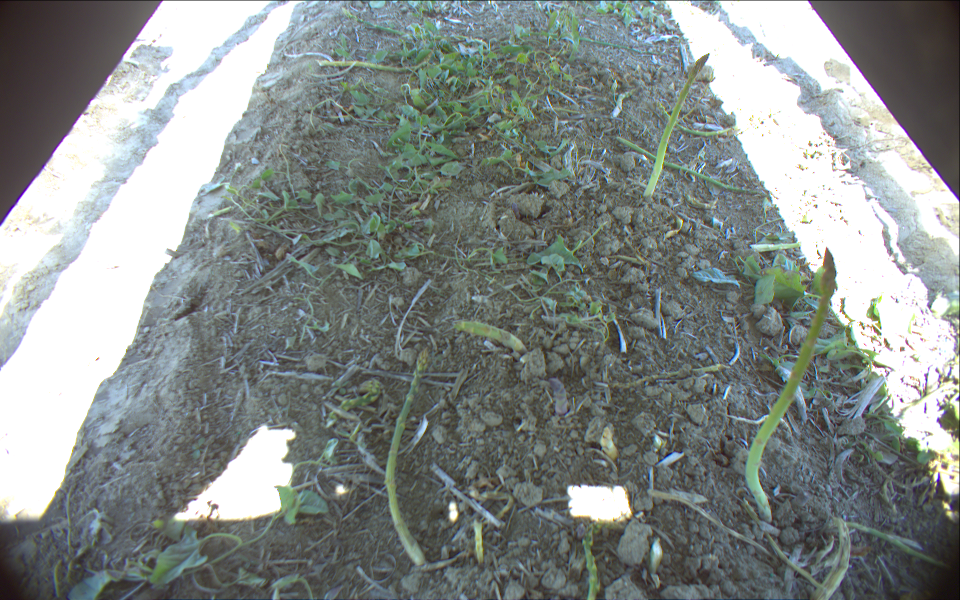aspa: (743, 244, 842, 523), (639, 50, 712, 199)
